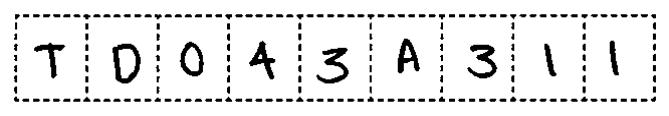0: (173, 38, 211, 82)
1: (533, 39, 567, 85), (598, 36, 629, 78)
3: (463, 38, 500, 87), (314, 43, 352, 88)
4: (244, 35, 281, 83)
A: (390, 34, 425, 79)
D: (107, 40, 146, 88)
T: (28, 36, 70, 86)
